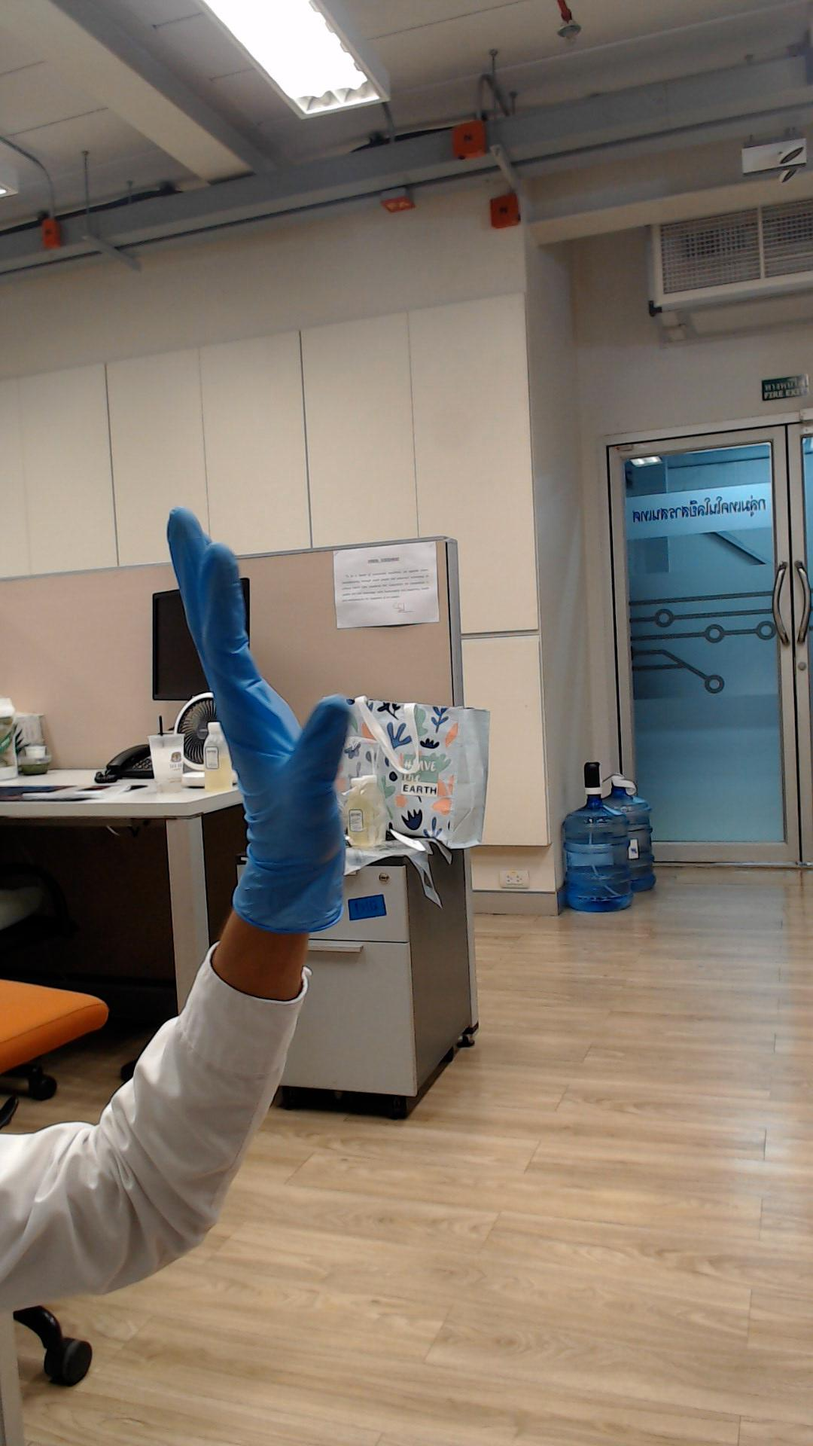gloves: (149, 498, 388, 852)
